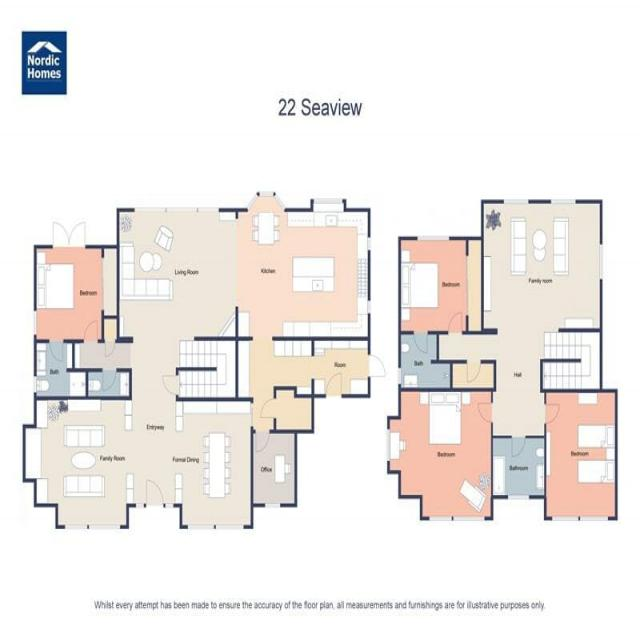bed: (402, 247, 438, 324), (576, 422, 614, 482), (39, 264, 74, 306)
door: (48, 221, 87, 250), (142, 477, 162, 508), (258, 396, 279, 421), (463, 357, 482, 382), (325, 372, 344, 397), (366, 357, 386, 379), (478, 399, 494, 425), (543, 402, 562, 423), (508, 436, 526, 458), (84, 318, 99, 344), (48, 338, 63, 362), (446, 312, 464, 330), (414, 331, 428, 351), (253, 427, 267, 446), (103, 365, 113, 387), (102, 338, 114, 356)
sofa: (507, 214, 568, 278), (63, 425, 106, 498), (416, 391, 474, 444)
stair: (539, 333, 599, 389), (178, 341, 236, 395)
table: (203, 430, 233, 503), (252, 212, 282, 243)
